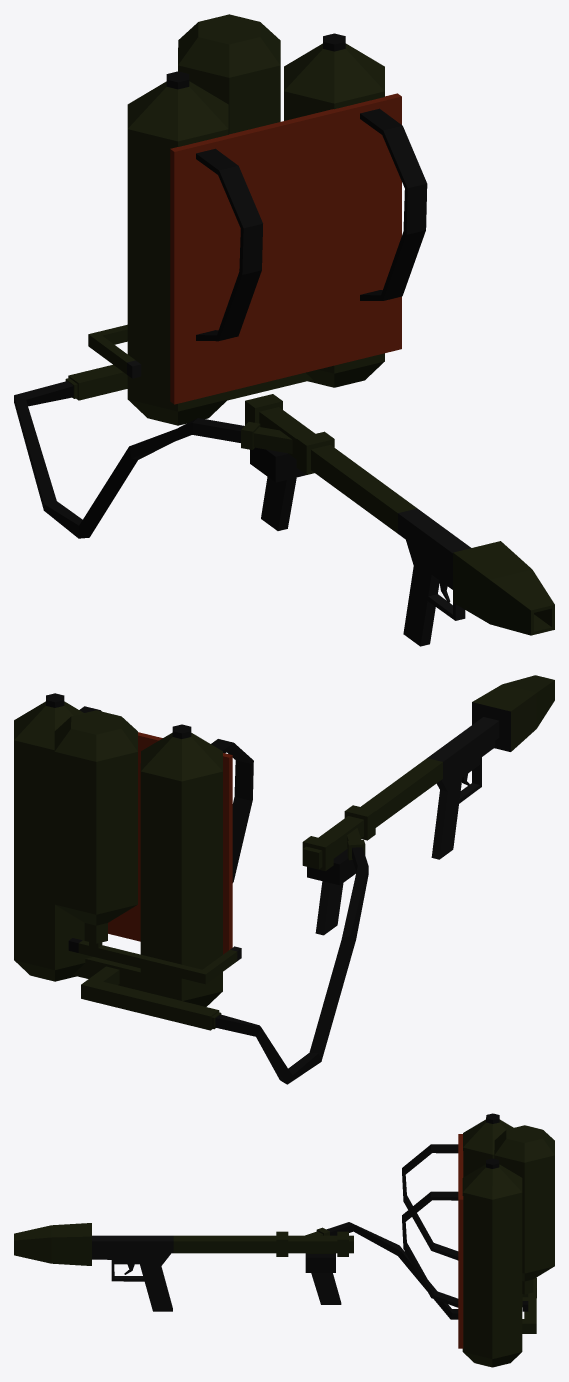
File: M2_Flamethrower.obj
3 views of the same model, one above another, from view 1: azimuth 30°, elevation 25°; view 2: azimuth 150°, elevation 25°; view 3: azimuth 270°, elevation 25° (orthographic). The views are drawn at different scales.
Parts seen in each view (by area): view 1: M2_Flamethrower_Cube.005; view 2: M2_Flamethrower_Cube.005; view 3: M2_Flamethrower_Cube.005.
Part boxes in pixels (box(x1,y1,x2,y2)): M2_Flamethrower_Cube.005: box(14, 14, 554, 646); M2_Flamethrower_Cube.005: box(14, 675, 554, 1084); M2_Flamethrower_Cube.005: box(14, 1113, 554, 1367).
Size of the model in its own units: 0.502 by 0.5793 by 1.17.
